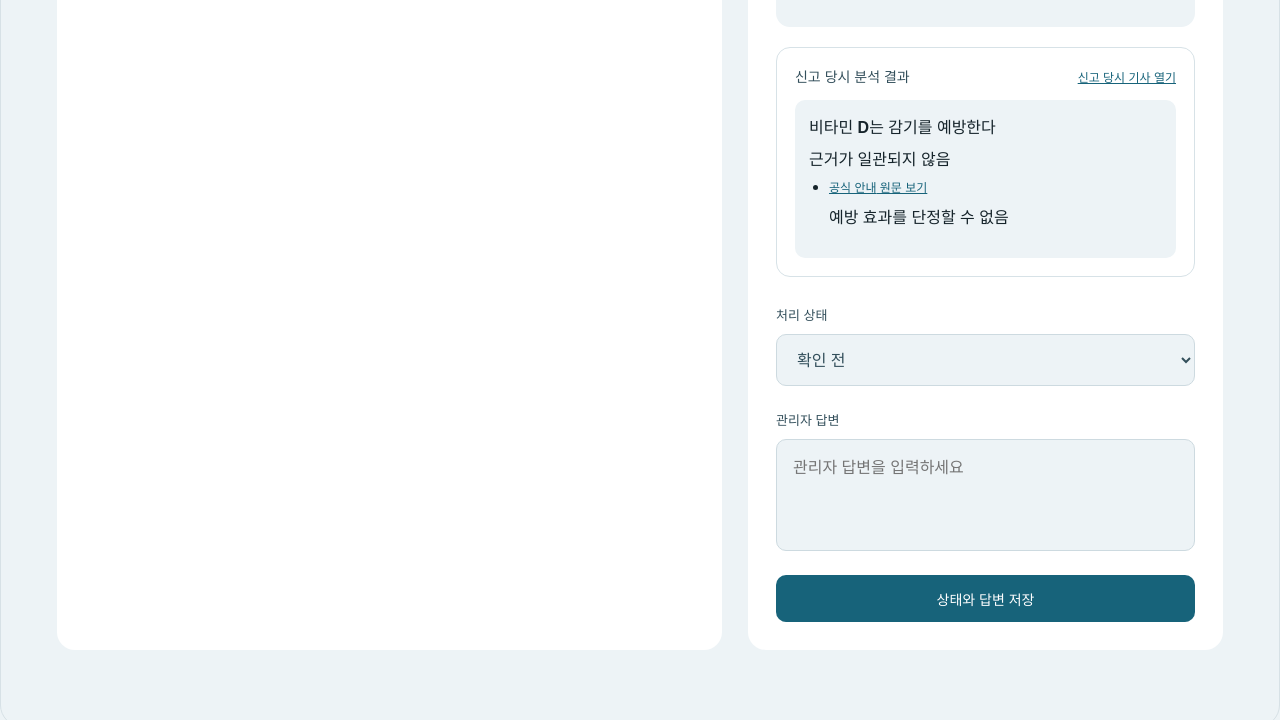
Scenario: AdminReportsPage API › 관리자가 Version과 함께 처리 완료 상태와 답변을 저장한다
(page scrolled)
Select "처리 완료" in the dropdown labelled "처리 상태" at (986, 360), box [776, 334, 1195, 386]
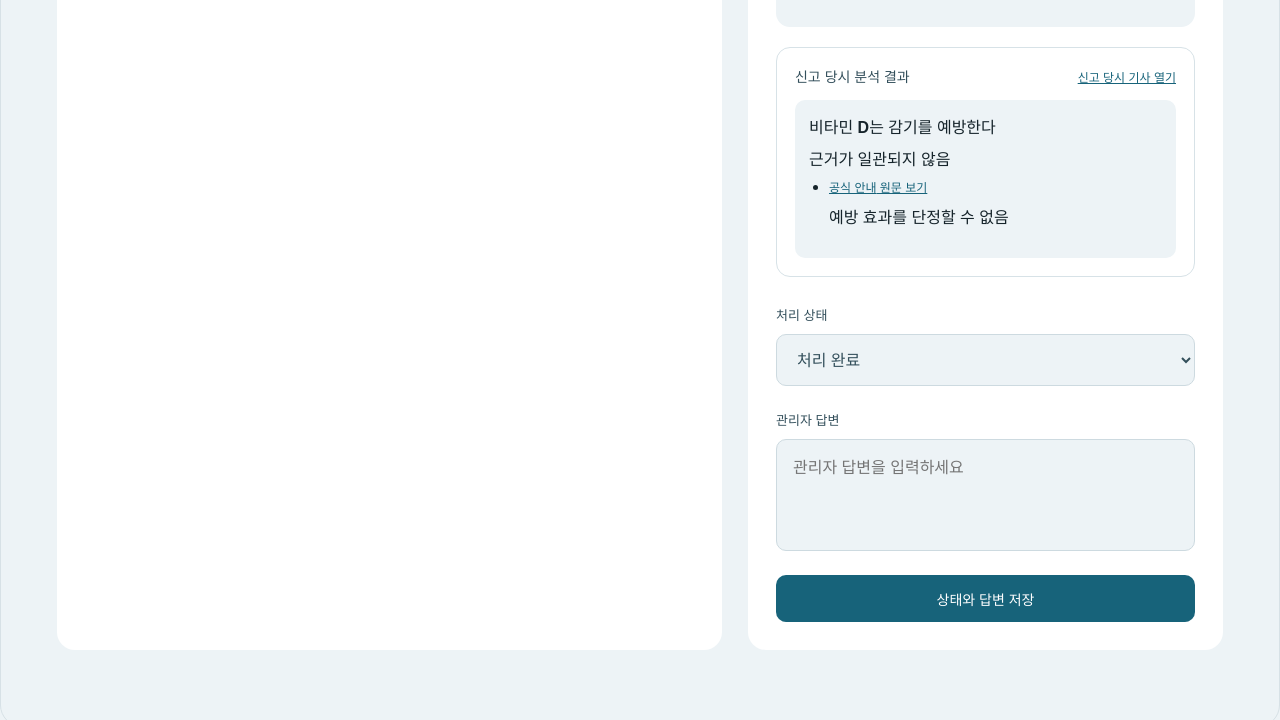
Type "신고 내용을 확인했습니다." into the text box labelled "관리자 답변" at (986, 495), box [776, 439, 1195, 551]
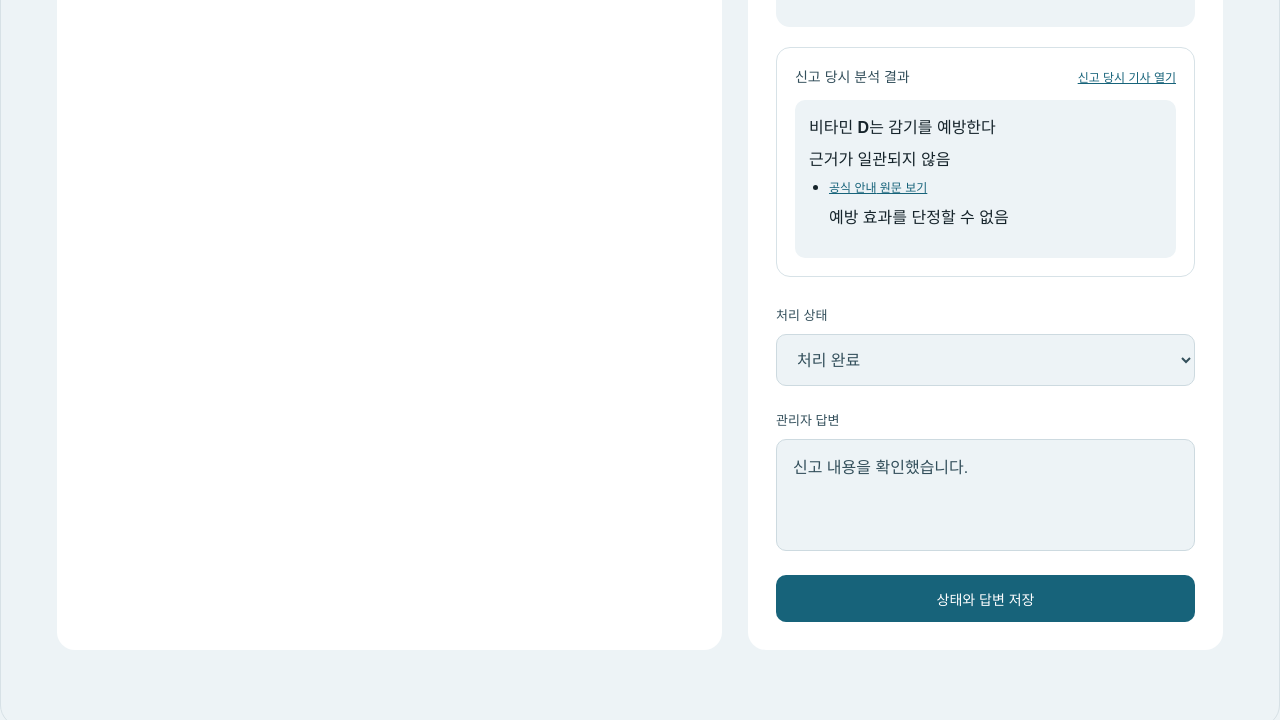
Click the button "상태와 답변 저장" at (986, 598), box [776, 575, 1195, 622]
(page scrolled)
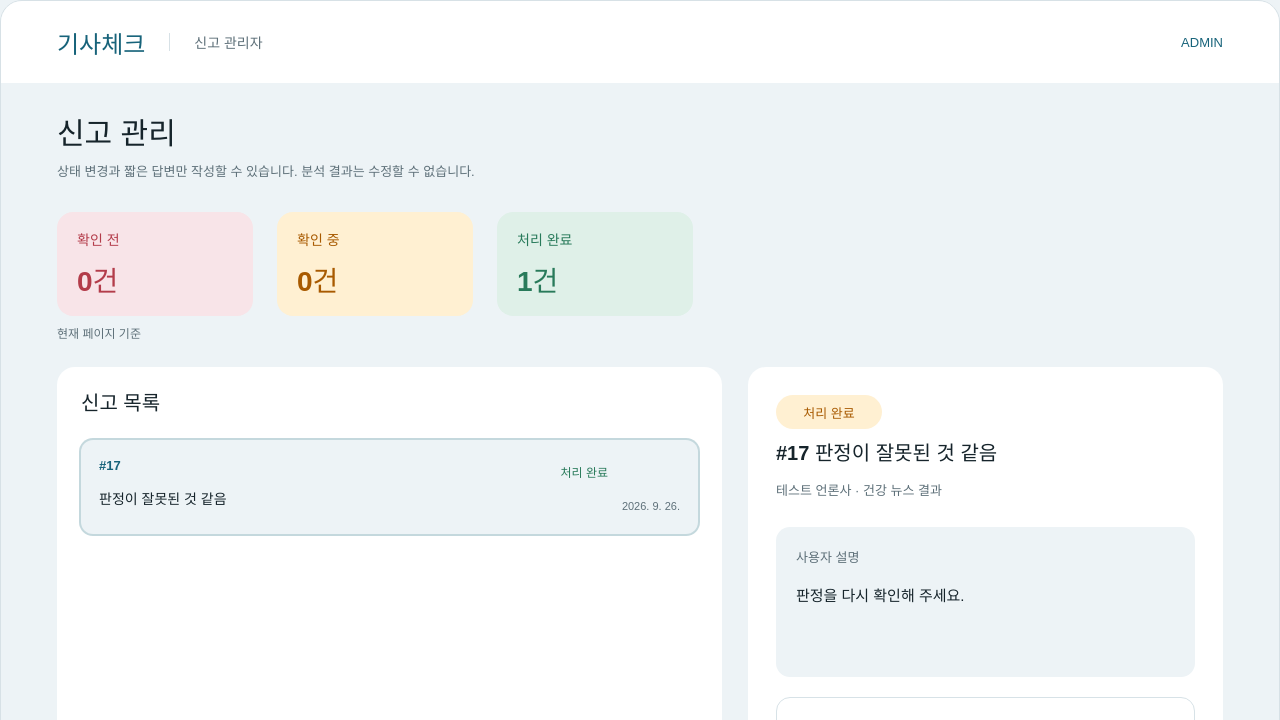
Expected: the text "0건" below "확인 전" is shown, [77, 266, 118, 297]
Expected: the text "1건" is shown, [517, 266, 558, 297]
